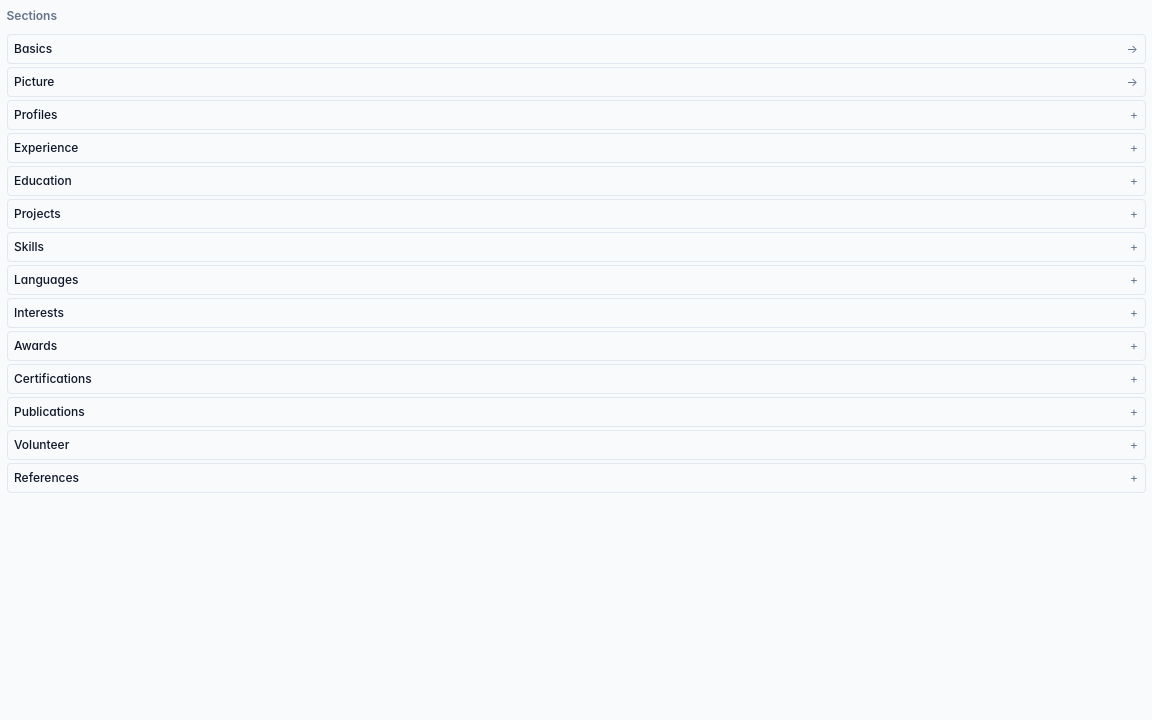
SectionsPanel mounts education/projects/skills lists (US3 AC-01) › skills row exposes SectionList when expanded
The image size is (1152, 720).
Click the button "Skills +" at point(29, 247), box left=8, top=233, right=1144, bottom=261
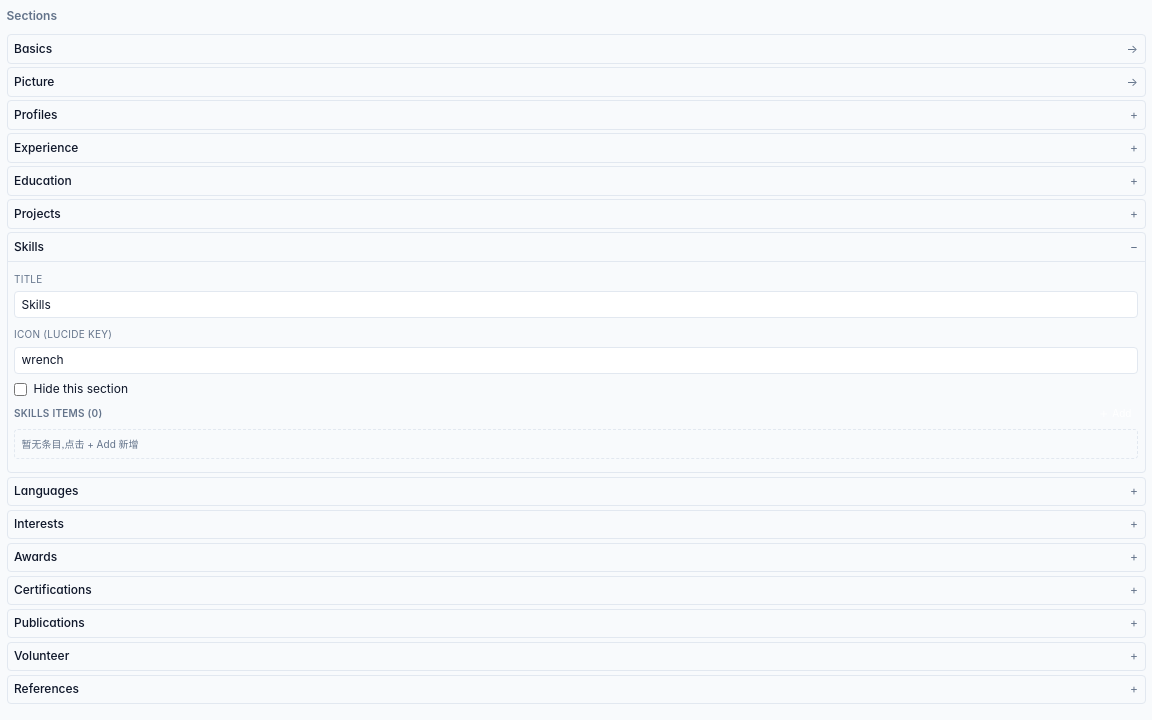
Expected: the element with test id "skills-section-list" is shown, left=14, top=404, right=1138, bottom=459
